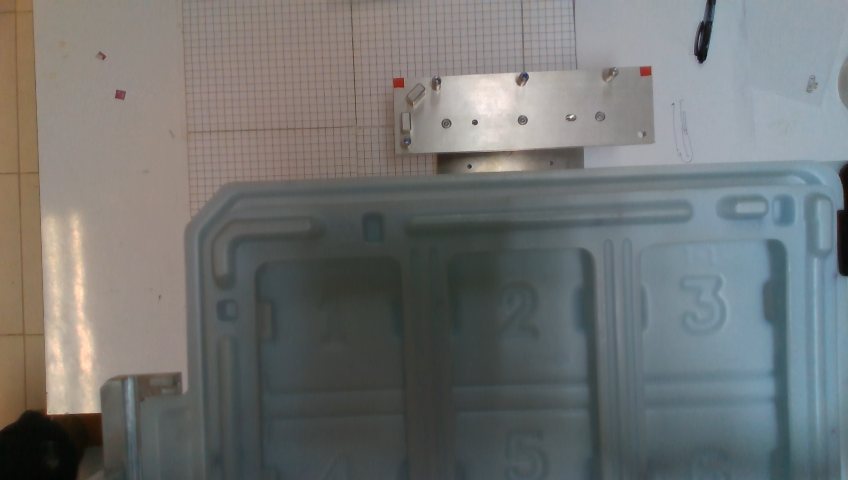red: (640, 66, 652, 76), (393, 78, 404, 88)
